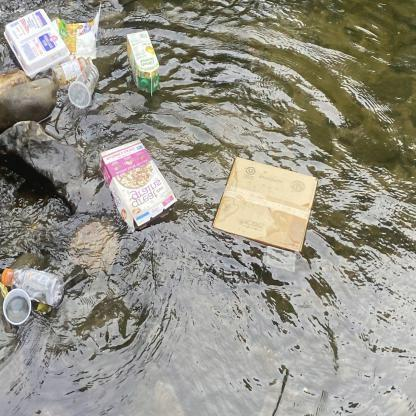Plastic: (0, 262, 66, 324), (65, 59, 105, 112)
